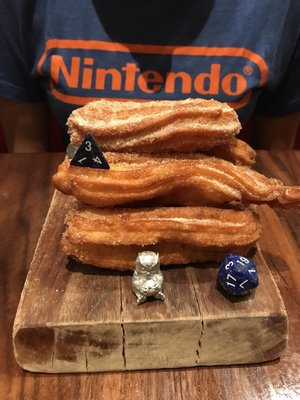soup: (53, 99, 292, 272)
